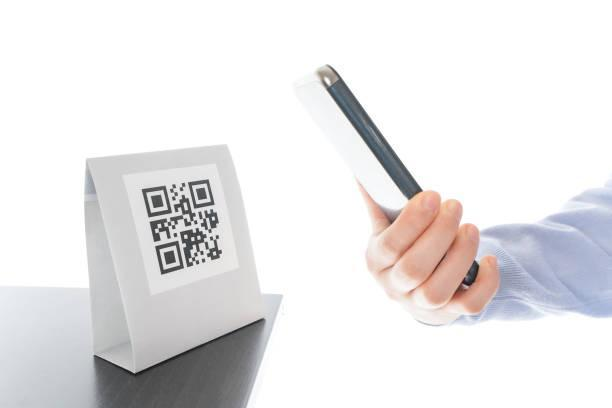Finder pattern: (139, 183, 173, 219), (155, 239, 185, 277), (185, 176, 217, 210)
